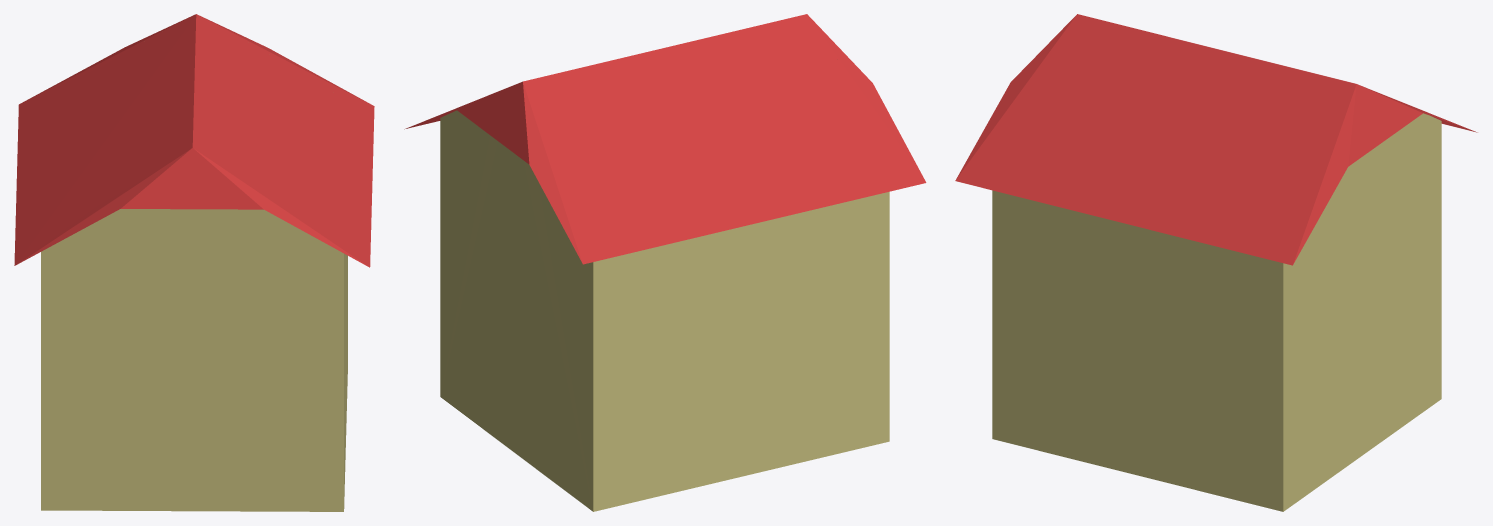
3 views of the same model, side by side, from view 1: azimuth 30°, elevation 25°; view 2: azimuth 150°, elevation 25°; view 3: azimuth 270°, elevation 25° (orthographic). The views are drawn at different scales.
Parts seen in each view (by area): view 1: group_5, group_3, group_4; view 2: group_5, group_3, group_4; view 3: group_5, group_3, group_4.
Boxes of the visible parts, x1,y1,x2,y2 form: group_5: (41, 209, 347, 511); group_3: (14, 14, 374, 267); group_4: (16, 23, 373, 267); group_5: (440, 110, 889, 511); group_3: (405, 14, 926, 264); group_4: (404, 31, 925, 263); group_5: (992, 113, 1441, 511); group_3: (955, 14, 1382, 265); group_4: (955, 38, 1477, 265).
Bounding box in the file's own units: 14.26 × 14.53 × 11.33.
